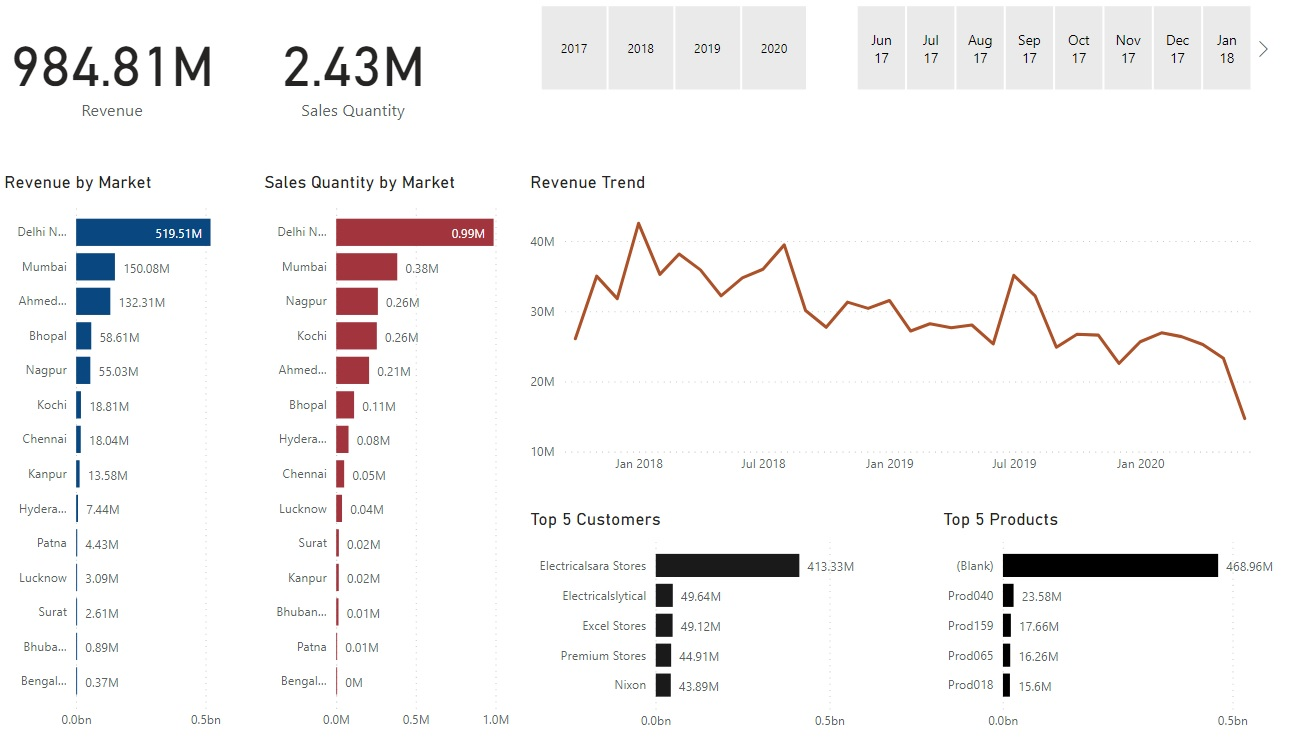

The dashboard page shown, as its layout file describes it:
{"tool":"powerbi","page":{"name":"Page 1","canvas":[1280,720],"ordinal":0},"visuals":[{"type":"card","fields":{"Values":["BaseMeasures.revenue"]},"box":[0,0,219.8,139.1],"z":0},{"type":"card","fields":{"Values":["BaseMeasures.sales qty"]},"box":[234.4,0,219.8,139.1],"z":1000},{"type":"barChart","title":"Revenue by Market","fields":{"Y":["BaseMeasures.Revenue"],"Category":["sales markets.markets_name"]},"box":[0,168.3,246.1,551.5],"z":2000},{"type":"barChart","title":"Sales Quantity by Market","fields":{"Category":["sales markets.markets_name"],"Y":["BaseMeasures.Sales Quantity"]},"box":[252.9,168.3,249,551.5],"z":3000},{"type":"slicer","fields":{"Values":["sales date.year"]},"box":[501.9,0,307.4,95.3],"z":4000},{"type":"slicer","fields":{"Values":["sales date.cy_date"]},"box":[809.2,0,431.9,95.3],"z":5000},{"type":"barChart","title":"Top 5 Customers","fields":{"Y":["BaseMeasures.Revenue"],"Category":["sales customers.custmer_name"]},"box":[511.6,496,350.2,223.7],"z":6000},{"type":"barChart","title":"Top 5 Products","fields":{"Y":["BaseMeasures.Revenue"],"Category":["sales products.product_code"]},"box":[913.3,496,351.1,223.7],"z":7000},{"type":"lineChart","title":"Revenue Trend","fields":{"Y":["BaseMeasures.Revenue"],"Category":["sales date.cy_date"]},"box":[511.6,168.3,729.5,301.5],"z":8000}]}

Visuals, with their boxes in screenshot pixels (x1, y1, x2, y2), scaled from the page's 1280x720 canvas onto the 1315x738 screenshot:
card - BaseMeasures.revenue: (x1=0, y1=0, x2=226, y2=143)
card - BaseMeasures.sales qty: (x1=241, y1=0, x2=467, y2=143)
"Revenue by Market" barChart: (x1=0, y1=173, x2=253, y2=737)
"Sales Quantity by Market" barChart: (x1=260, y1=173, x2=516, y2=737)
slicer - sales date.year: (x1=516, y1=0, x2=831, y2=98)
slicer - sales date.cy_date: (x1=831, y1=0, x2=1275, y2=98)
"Top 5 Customers" barChart: (x1=526, y1=508, x2=885, y2=737)
"Top 5 Products" barChart: (x1=938, y1=508, x2=1299, y2=737)
"Revenue Trend" lineChart: (x1=526, y1=173, x2=1275, y2=482)
